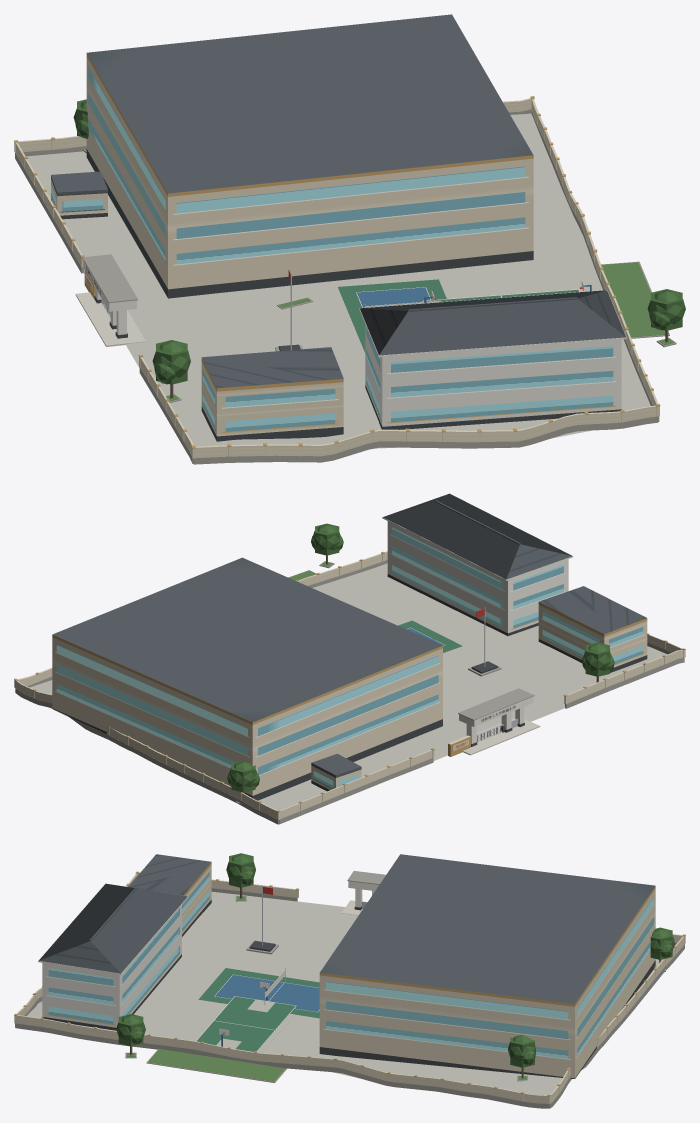
Rendered from glut_primary.glb.
3 views of the same model, one above another, from view 1: azimuth 30°, elevation 25°; view 2: azimuth 150°, elevation 25°; view 3: azimuth 270°, elevation 25° (orthographic). The views are drawn at different scales.
Parts seen in each view (by area): view 1: lod0_atlas, lod0_lit, lod1_atlas; view 2: lod0_atlas, lod0_lit, lod1_atlas; view 3: lod0_atlas, lod0_lit, lod1_atlas.
Boxes of the visible parts, x1,y1,x2,y2 form: lod0_atlas: (14, 14, 685, 464); lod0_lit: (51, 67, 613, 431); lod1_atlas: (15, 98, 682, 457); lod0_atlas: (14, 493, 685, 824); lod0_lit: (56, 527, 643, 788); lod1_atlas: (16, 523, 683, 818); lod0_atlas: (14, 853, 685, 1108); lod0_lit: (48, 872, 653, 1058); lod1_atlas: (16, 853, 684, 1103).
Size of what is drawn, in the model's own units: 89.02 by 16.77 by 110.
Materials: 2 (2 with a texture image).
